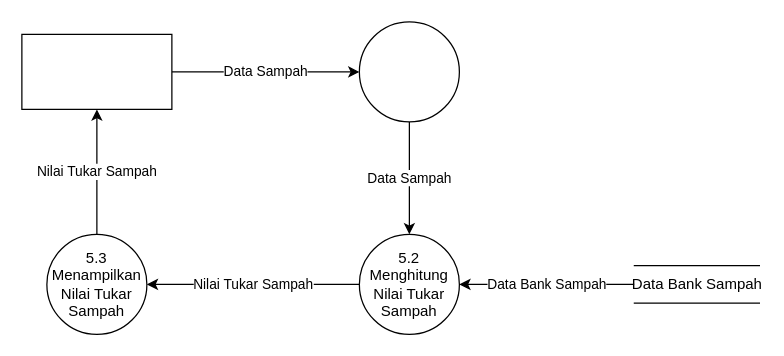
This 784x356 diagram has some shape labels left out. The box of each missing label's shape, as (x1, y1, x2, y2) in pixels:
5.1 Input Data Sampah: (358, 21, 459, 122)
Pengguna: (21, 33, 172, 109)
